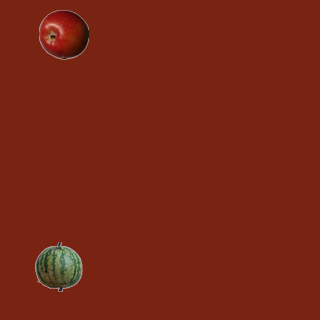Apple Braeburn: (38, 9, 88, 59)
Watermelon: (33, 241, 83, 291)
